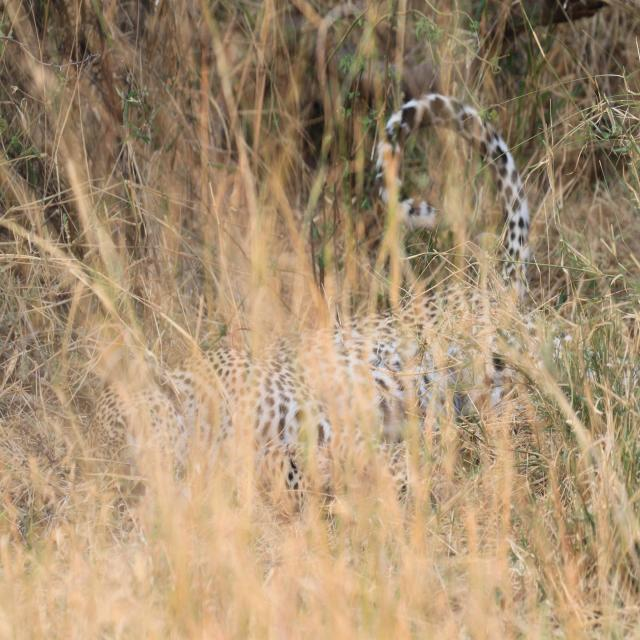Leopard: (7, 280, 542, 519)
